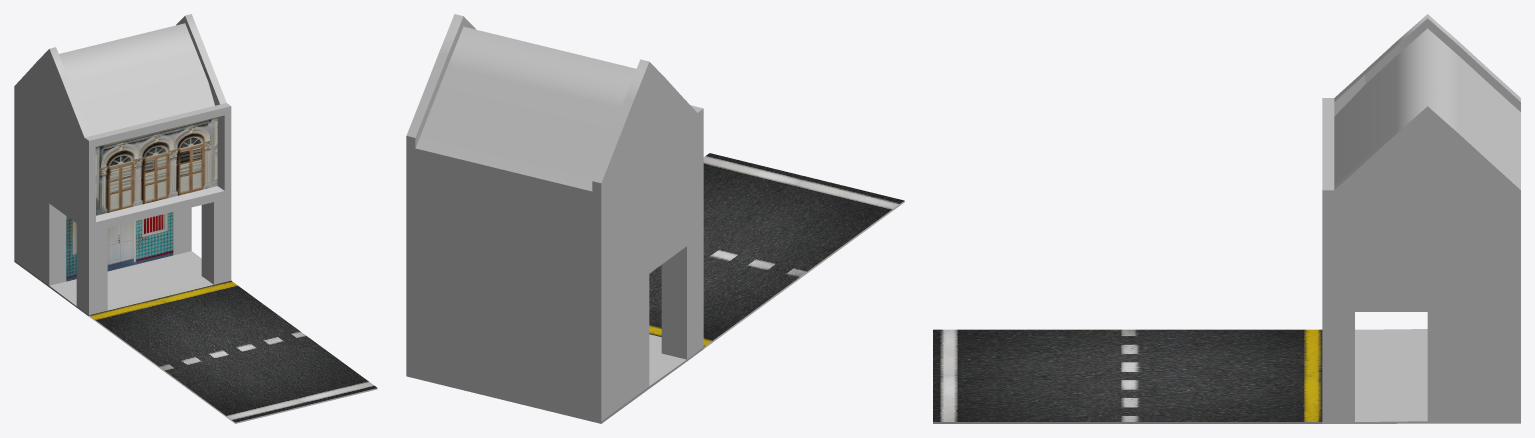
Rendered from shop with road.fbx.
3 views of the same model, side by side, from view 1: azimuth 30°, elevation 25°; view 2: azimuth 150°, elevation 25°; view 3: azimuth 270°, elevation 25° (orthographic). The views are drawn at different scales.
Parts seen in each view (by area): view 1: Shophouse15; view 2: Shophouse15; view 3: Shophouse15.
Boxes of the visible parts, x1,y1,x2,y2 form: Shophouse15: (14, 14, 377, 423); Shophouse15: (406, 14, 904, 423); Shophouse15: (933, 14, 1520, 423).
Bounding box in the file's own units: 450 × 721 × 1209.
